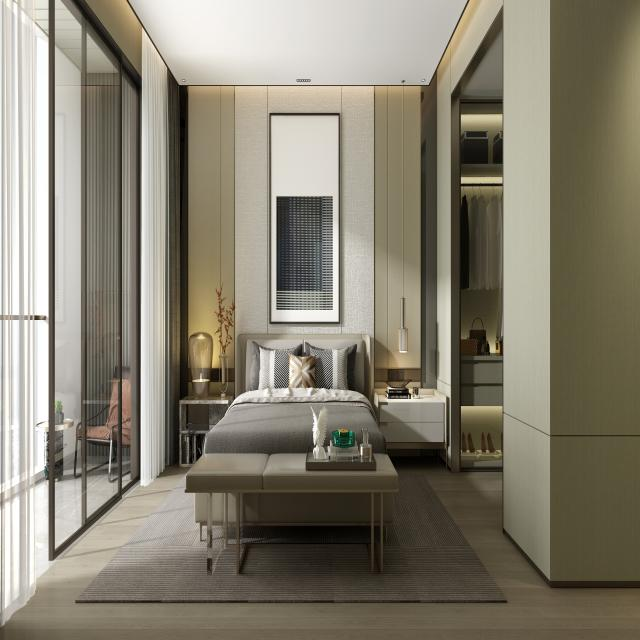floor: (0, 454, 640, 640), (243, 526, 371, 543), (374, 525, 380, 559), (228, 526, 236, 544), (239, 544, 244, 560), (239, 526, 242, 544), (369, 548, 371, 557)
